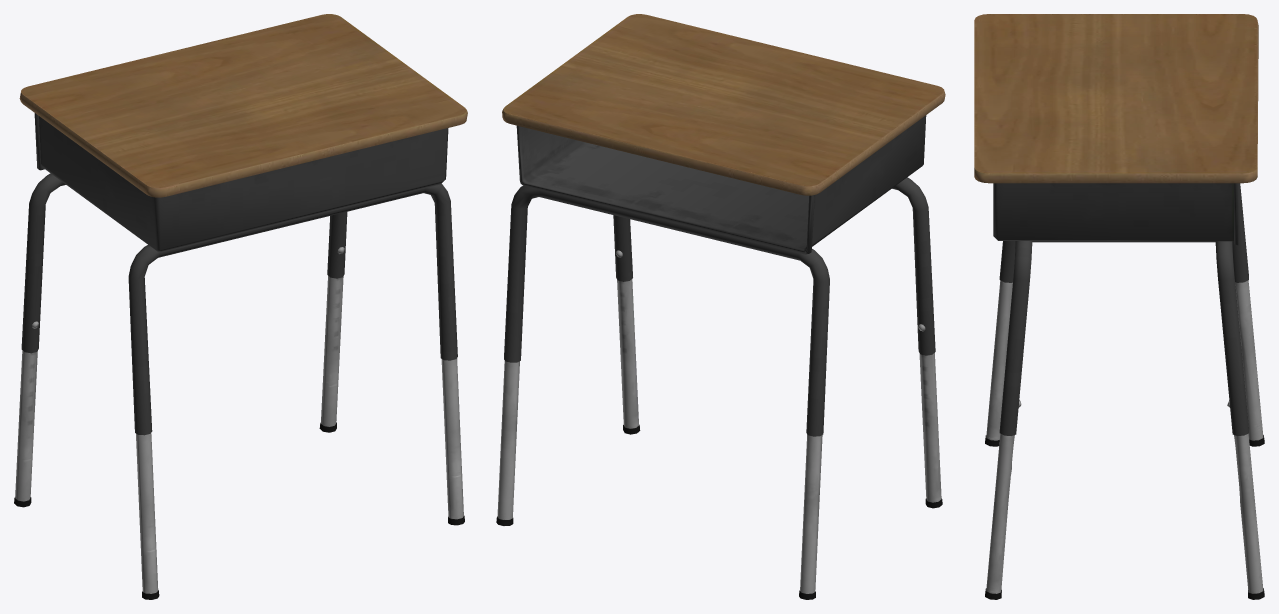
File: SchoolDesk_01.glb
The picture shows the model from 3 angles, left to right: view 1: azimuth 30°, elevation 25°; view 2: azimuth 150°, elevation 25°; view 3: azimuth 270°, elevation 25°; orthographic projection. The views are drawn at different scales.
Visible parts, largest first — view 1: SchoolDesk_01; view 2: SchoolDesk_01; view 3: SchoolDesk_01.
Part boxes in pixels (x1=…): SchoolDesk_01: x1=14, y1=14, x2=467, y2=599; SchoolDesk_01: x1=496, y1=14, x2=945, y2=599; SchoolDesk_01: x1=974, y1=14, x2=1264, y2=599.
Bounding box in the file's own units: 0.7117 × 0.8826 × 0.5438.
1 material, 1 textured.
